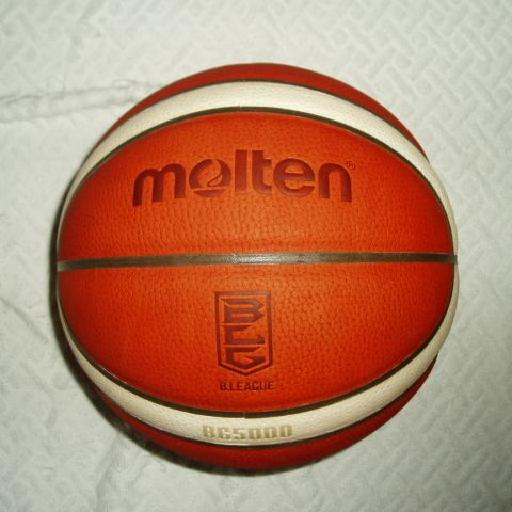ball: (54, 65, 460, 471)
